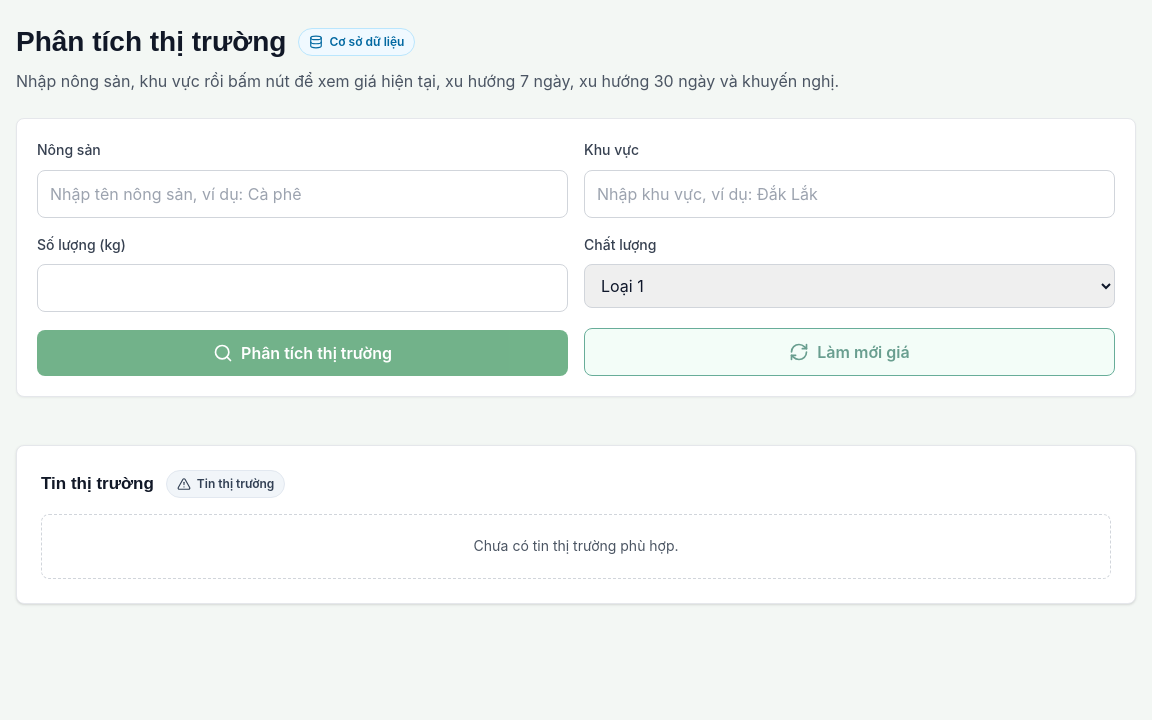
Test case: market analysis real-data contract › does not present mock analysis price as a real market price
Step 1. Type "Cà phê" into the field labelled "Nông sản" → (302, 194), box top-left (37, 170), bottom-right (568, 218)
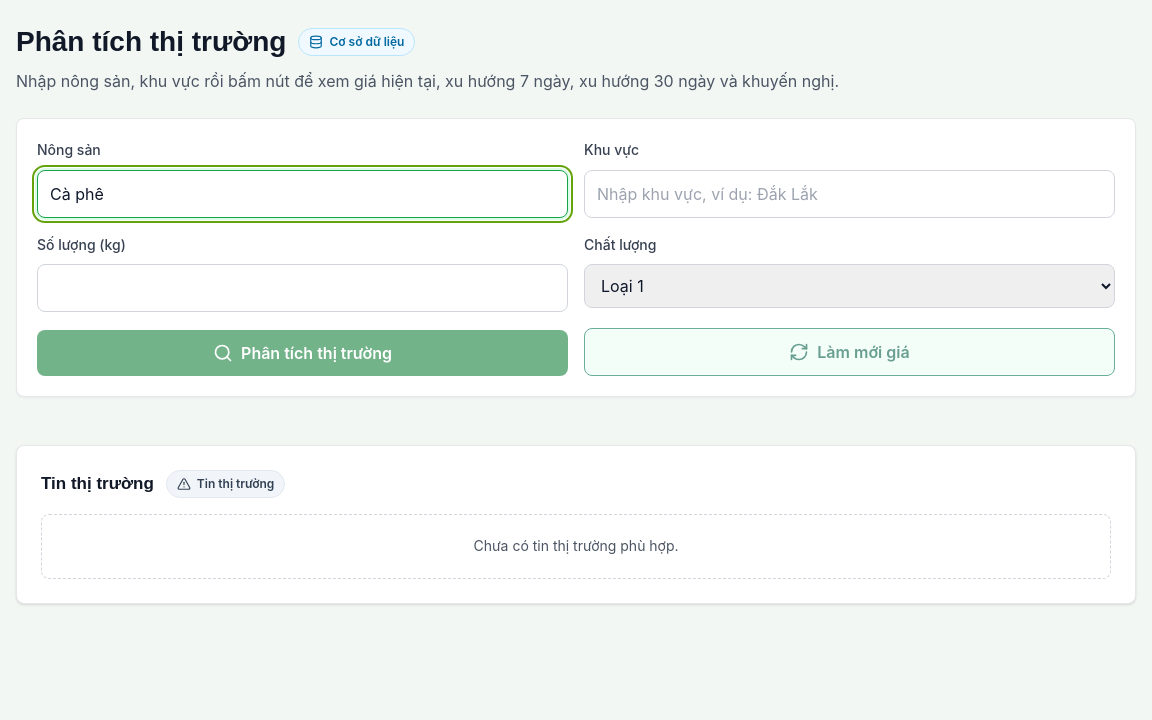
Step 2. Type "Đắk Lắk" into the field labelled "Khu vực" → (850, 194), box top-left (584, 170), bottom-right (1115, 218)
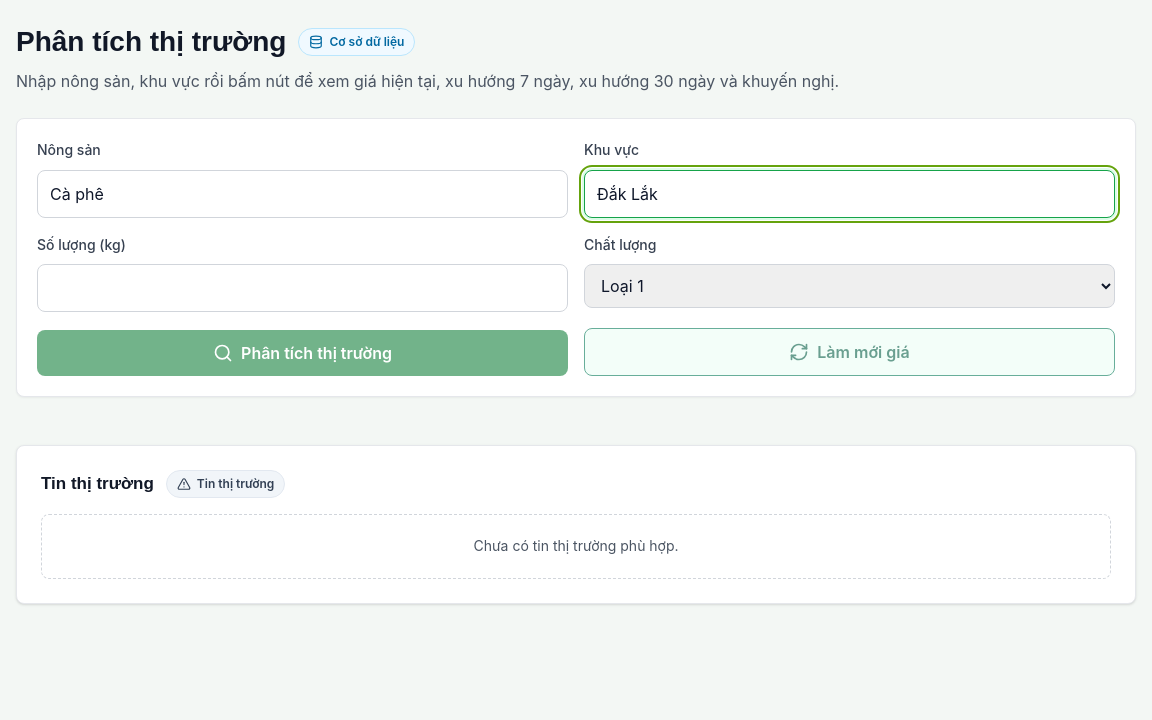
Step 3. Type "1000" into the number field labelled "Số lượng (kg)" → (302, 288), box top-left (37, 264), bottom-right (568, 312)
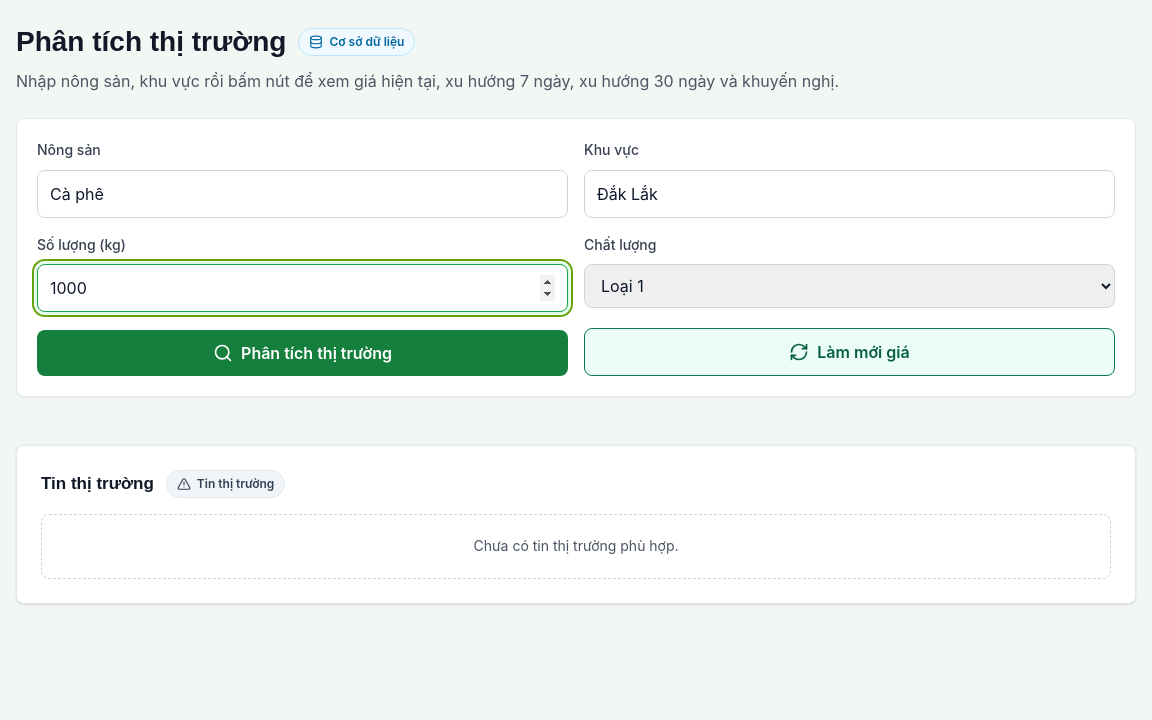
Step 4. Click the button "Phân tích thị trường" → (302, 353), box top-left (37, 330), bottom-right (568, 376)
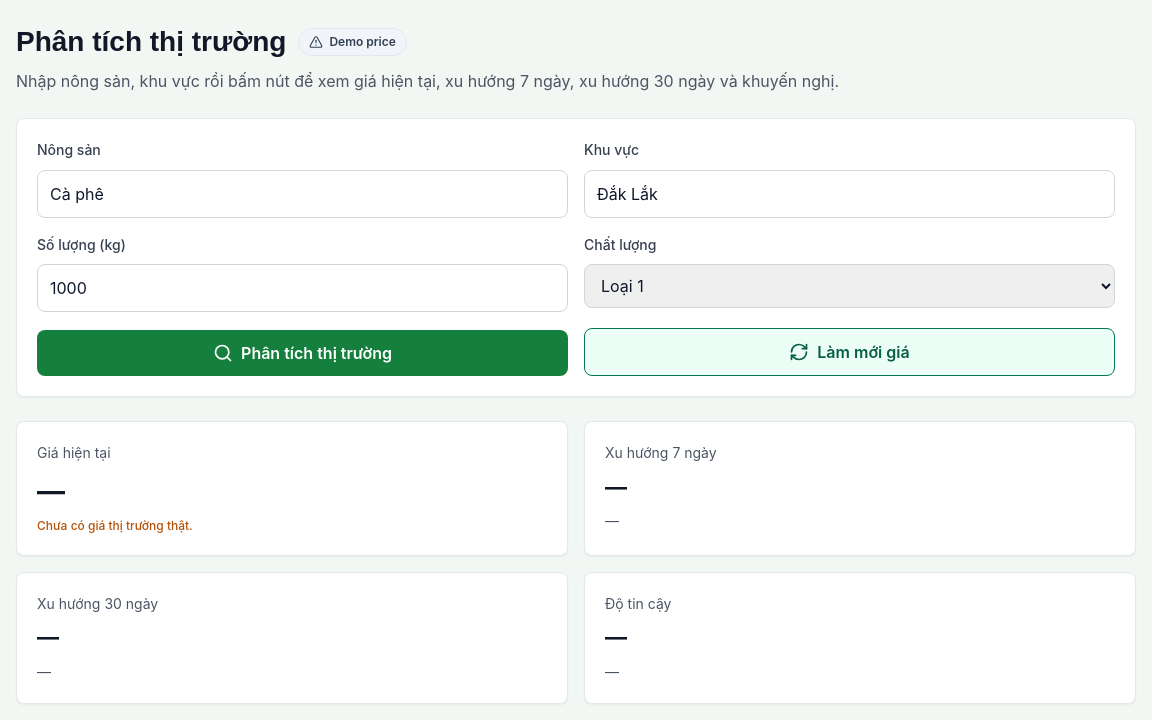
Now the text with test id "market-current-price" reads "—", box top-left (37, 474), bottom-right (65, 508)
Now the text "Chưa có giá thị trường thật." is shown, box top-left (37, 518), bottom-right (193, 533)
